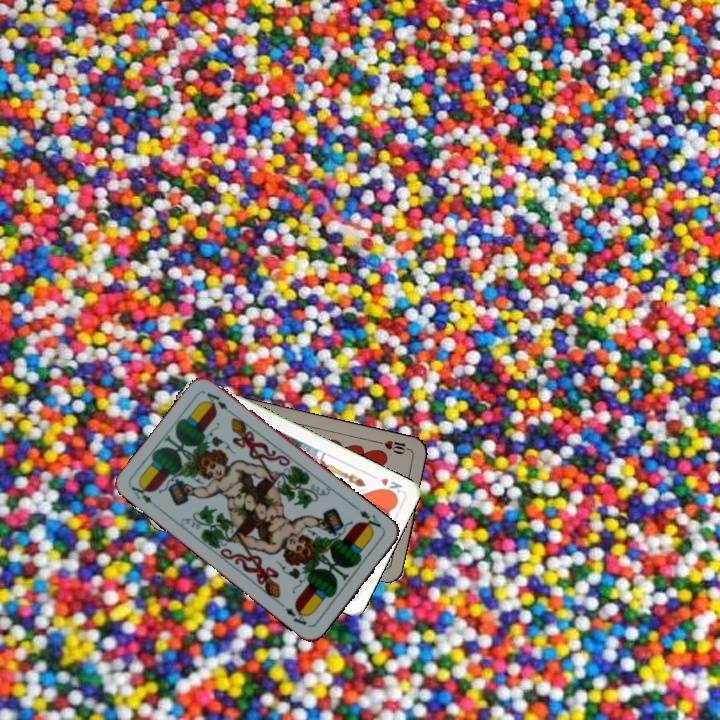EA: (351, 503, 387, 534), (127, 478, 155, 506)
H10: (373, 436, 413, 457)
HK: (377, 474, 405, 499)
